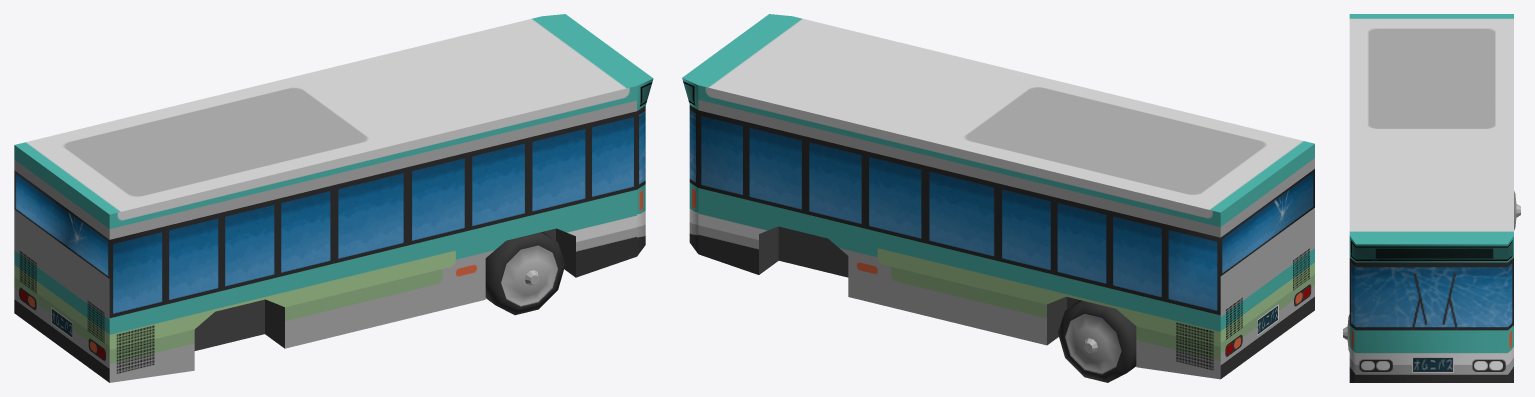
File: bus.FBX
3 views of the same model, side by side, from view 1: azimuth 30°, elevation 25°; view 2: azimuth 150°, elevation 25°; view 3: azimuth 270°, elevation 25° (orthographic). The views are drawn at different scales.
Visible parts, largest first — view 1: bus; view 2: bus; view 3: bus.
Boxes of the visible parts, x1,y1,x2,y2 form: bus: (14, 14, 653, 382); bus: (682, 14, 1314, 382); bus: (1343, 14, 1520, 382).
Size of the model in its own units: 183 by 64.94 by 59.74.
